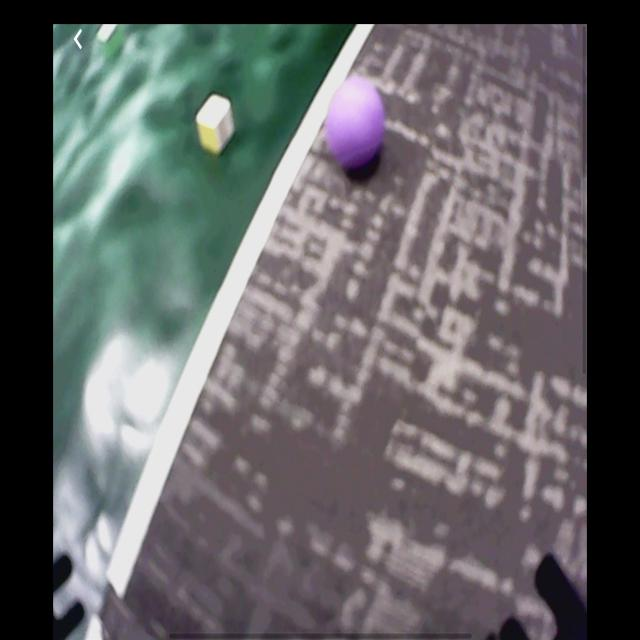ball: (327, 81, 385, 172)
